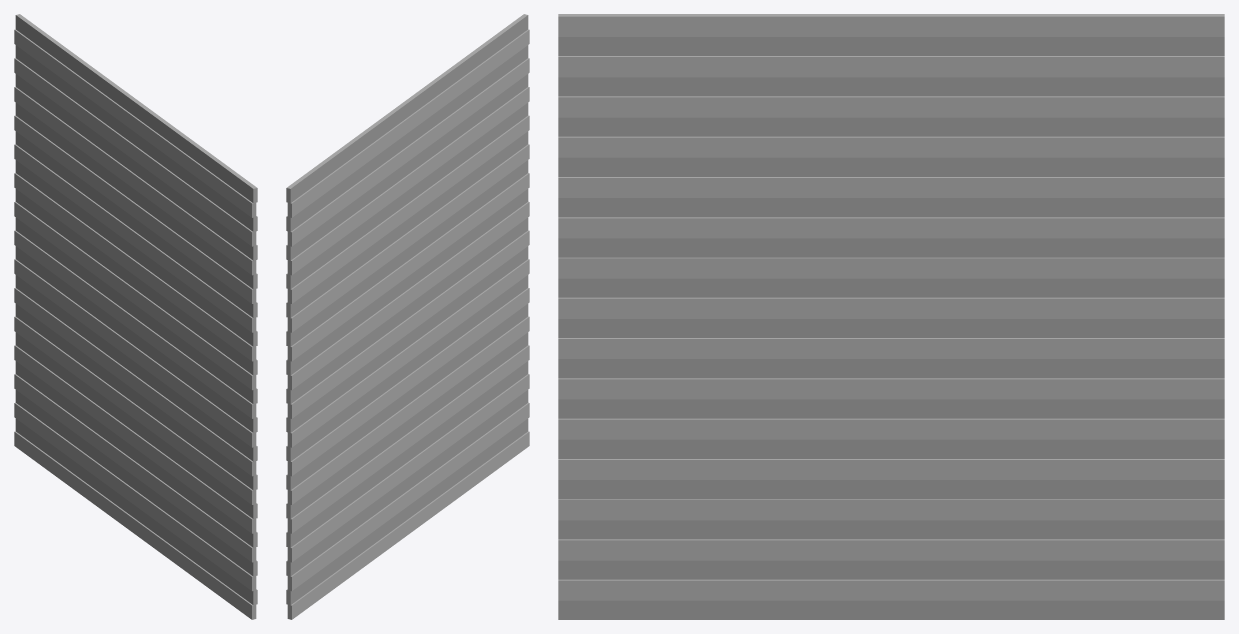
File: Shutter.fbx
The picture shows the model from 3 angles, left to right: view 1: azimuth 30°, elevation 25°; view 2: azimuth 150°, elevation 25°; view 3: azimuth 270°, elevation 25°; orthographic projection. The views are drawn at different scales.
Parts seen in each view (by area): view 1: Box001; view 2: Box001; view 3: Box001.
Boxes of the visible parts, <box> form: Box001: <box>14,14,257,619</box>; Box001: <box>286,14,529,619</box>; Box001: <box>558,14,1224,619</box>.
Size of the model in its own units: 2 by 150 by 150.
